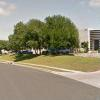Tree: (11, 7, 78, 57)
